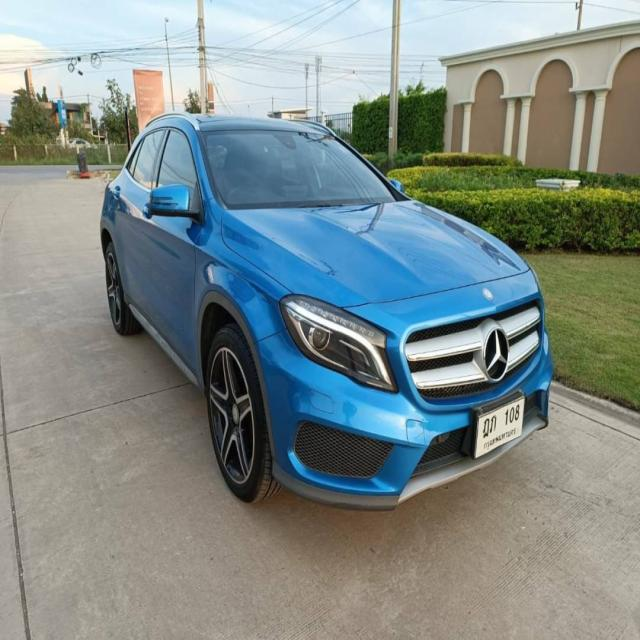license_plate: (468, 390, 528, 462)
